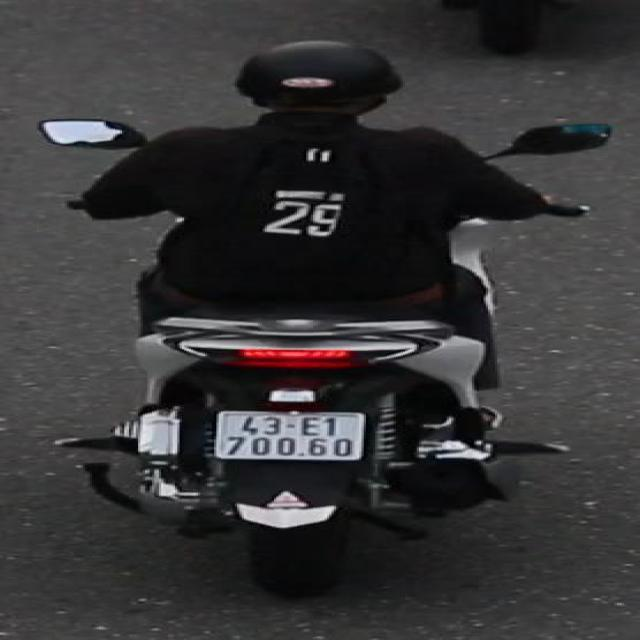LP: (209, 406, 373, 466)
helmet: (230, 36, 417, 131)
